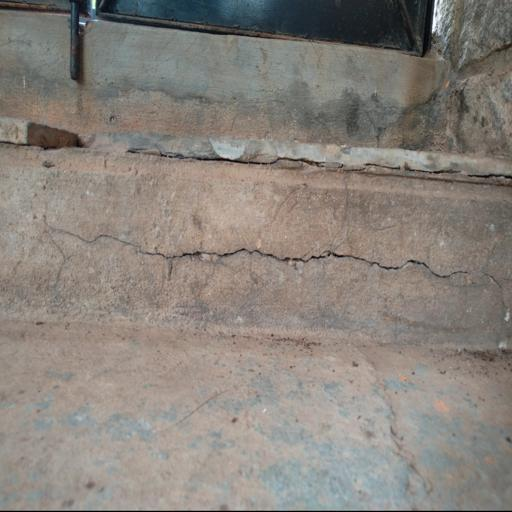major_crack: (30, 196, 512, 319), (107, 124, 512, 194)
